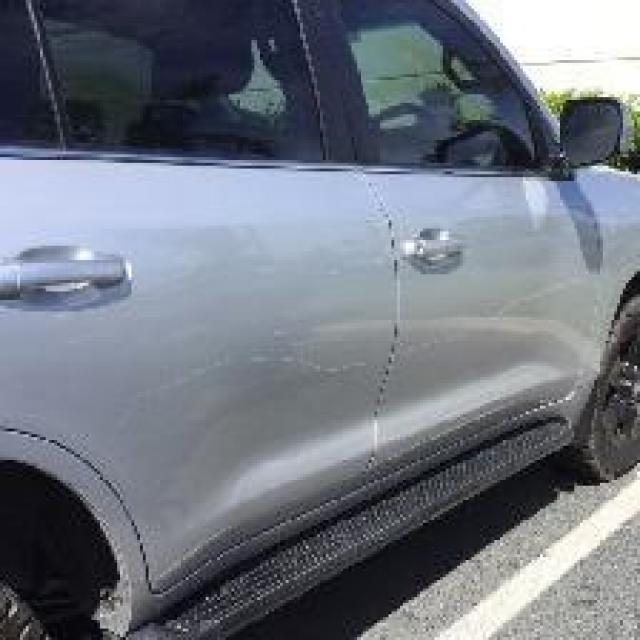damaged: (123, 277, 606, 417)
